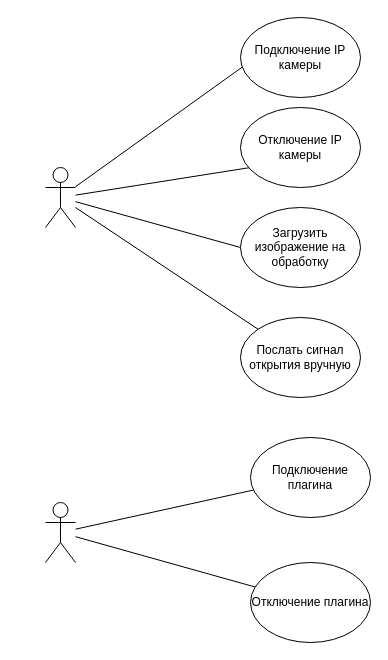
Some shapes in this 388 by 660 pixel diagram are drawn without their labels. Each missing label, with the box of its shape:
Администратор: (44, 502, 76, 562)
Пользователь: (44, 166, 76, 228)
